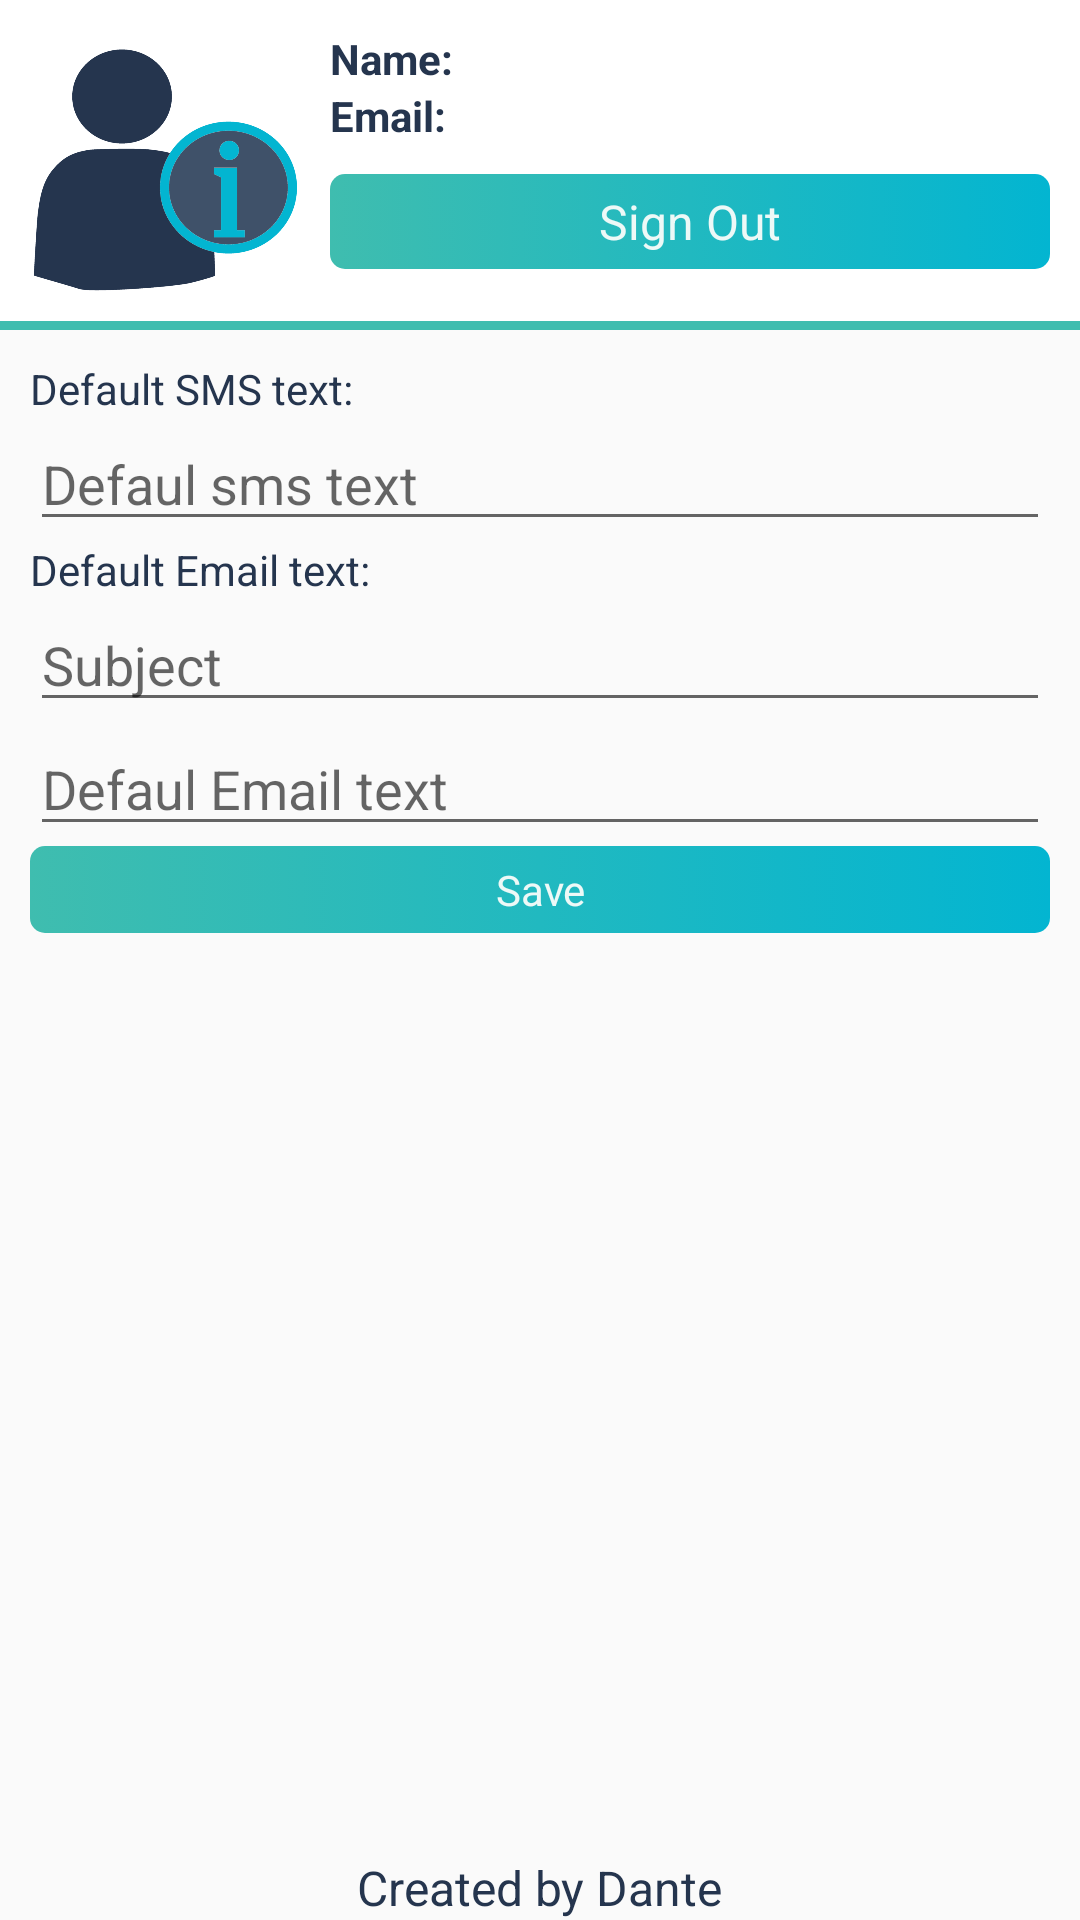

Named icons in this screenshot (1080 x 1920) and their centers, (x,y):
settings fragment user info: (165,170)
